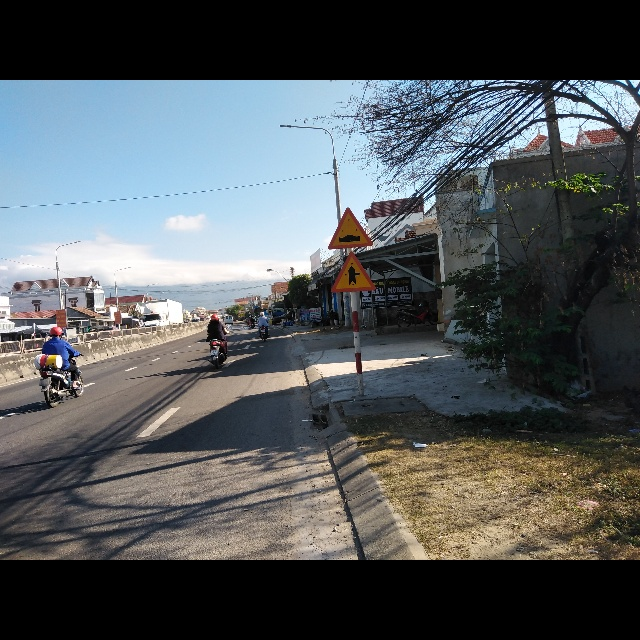Giao nhau với đường không ưu tiên: (331, 252, 377, 292)
Đường không bằng phẳng: (325, 207, 374, 250)
